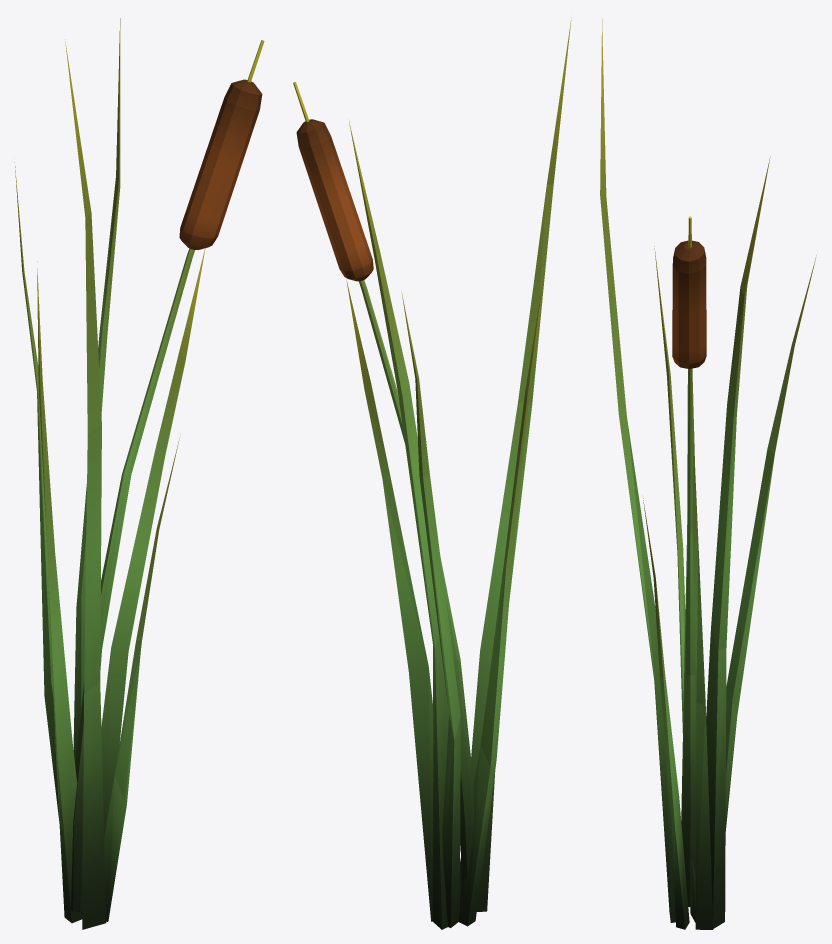
Rendered from PondReed-03.FBX.
3 renders of one model, left to right at view 1: azimuth 30°, elevation 25°; view 2: azimuth 150°, elevation 25°; view 3: azimuth 270°, elevation 25°, orthographic. The views are drawn at different scales.
Parts seen in each view (by area): view 1: PondReed-03; view 2: PondReed-03; view 3: PondReed-03.
Boxes of the visible parts, bbox=[...] form: PondReed-03: bbox=[14, 18, 264, 929]; PondReed-03: bbox=[293, 17, 571, 929]; PondReed-03: bbox=[600, 18, 816, 929].
Size of the model in its own units: 62.05 by 225 by 50.65.
Materials: 1 (1 with a texture image).
